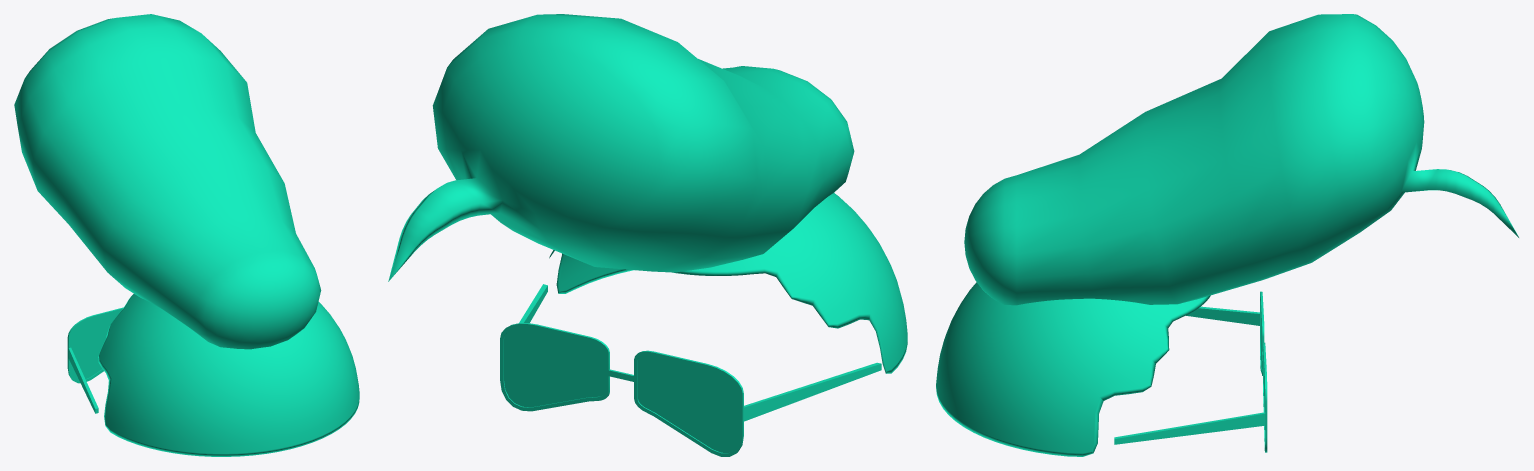
The model's file is Ducky_Deco3.fbx.
3 views of the same model, side by side, from view 1: azimuth 30°, elevation 25°; view 2: azimuth 150°, elevation 25°; view 3: azimuth 270°, elevation 25° (orthographic). The views are drawn at different scales.
Parts seen in each view (by area): view 1: Sphere, Rubber_Duck.003, Plane.001; view 2: Sphere, Plane.001, Rubber_Duck.003; view 3: Sphere, Rubber_Duck.003, Plane.001.
Part boxes in pixels (left/top/right/bottom): Sphere: left=14, top=14, right=321, bottom=349; Rubber_Duck.003: left=98, top=294, right=359, bottom=456; Plane.001: left=67, top=307, right=123, bottom=413; Sphere: left=388, top=14, right=854, bottom=281; Plane.001: left=500, top=284, right=881, bottom=456; Rubber_Duck.003: left=549, top=193, right=907, bottom=373; Sphere: left=964, top=14, right=1518, bottom=305; Rubber_Duck.003: left=936, top=282, right=1210, bottom=456; Plane.001: left=1114, top=291, right=1267, bottom=452.
Bounding box in the file's own units: 81.58 × 102 × 142.
